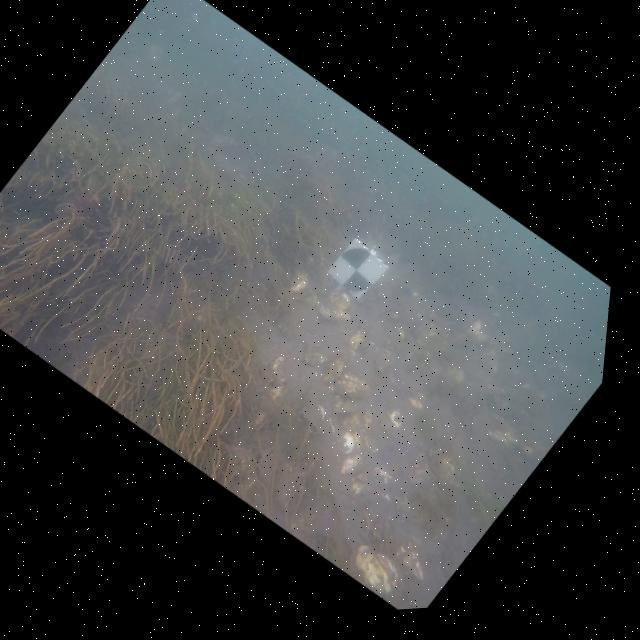Oyster-Closed: (355, 545, 397, 592), (260, 352, 299, 388), (334, 372, 370, 399), (323, 355, 345, 383), (289, 270, 307, 293), (304, 350, 326, 365)
Oyster-Indeterminate: (353, 467, 394, 489), (262, 379, 292, 408), (339, 411, 372, 432), (380, 409, 401, 436), (324, 290, 351, 310), (348, 326, 370, 350), (465, 319, 485, 341), (340, 431, 359, 454), (340, 455, 360, 474)
Oyster-Open: (302, 397, 333, 428), (318, 304, 351, 327), (356, 339, 372, 355)
